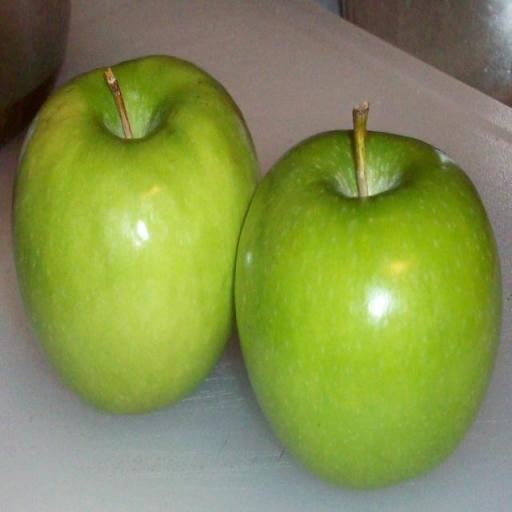fruit: (236, 132, 501, 487), (13, 56, 257, 412)
